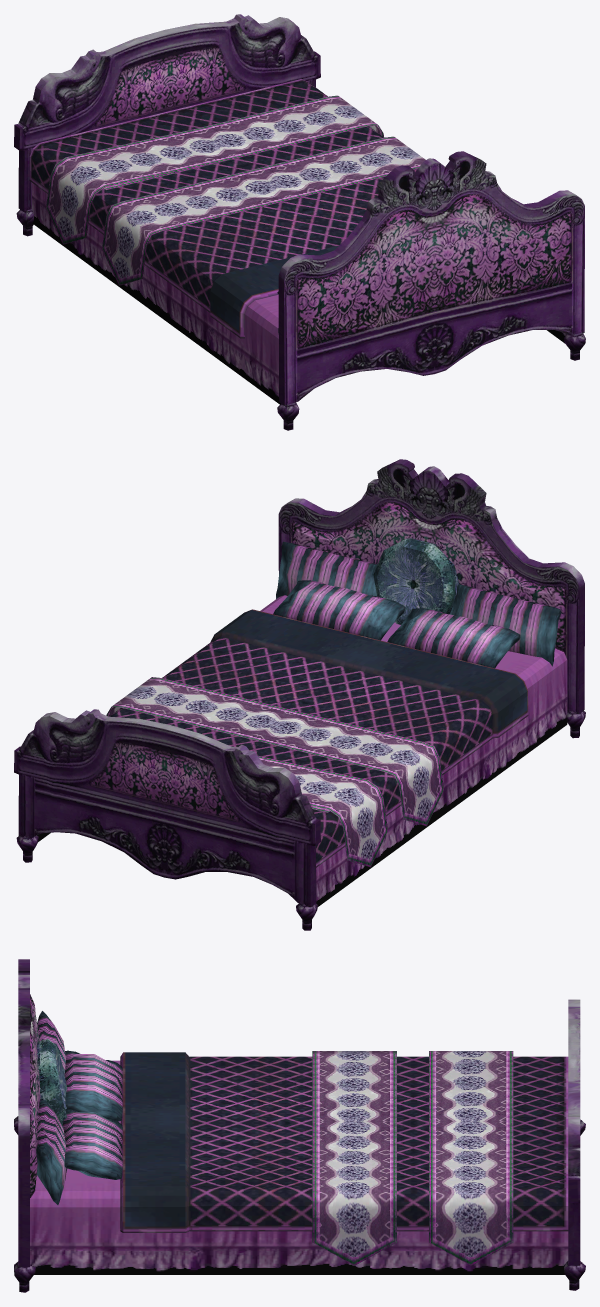
Rendered from furni_0201204_02.FBX.
3 renders of one model, top to bottom at view 1: azimuth 30°, elevation 25°; view 2: azimuth 150°, elevation 25°; view 3: azimuth 270°, elevation 25°, orthographic. The views are drawn at different scales.
Visible parts, largest first — view 1: furni_0201204_02; view 2: furni_0201204_02; view 3: furni_0201204_02.
Part boxes in pixels (bbox=[...]): furni_0201204_02: bbox=[14, 14, 585, 430]; furni_0201204_02: bbox=[14, 459, 585, 930]; furni_0201204_02: bbox=[14, 959, 585, 1292].
Bounding box in the file's own units: 164 × 119 × 253.
